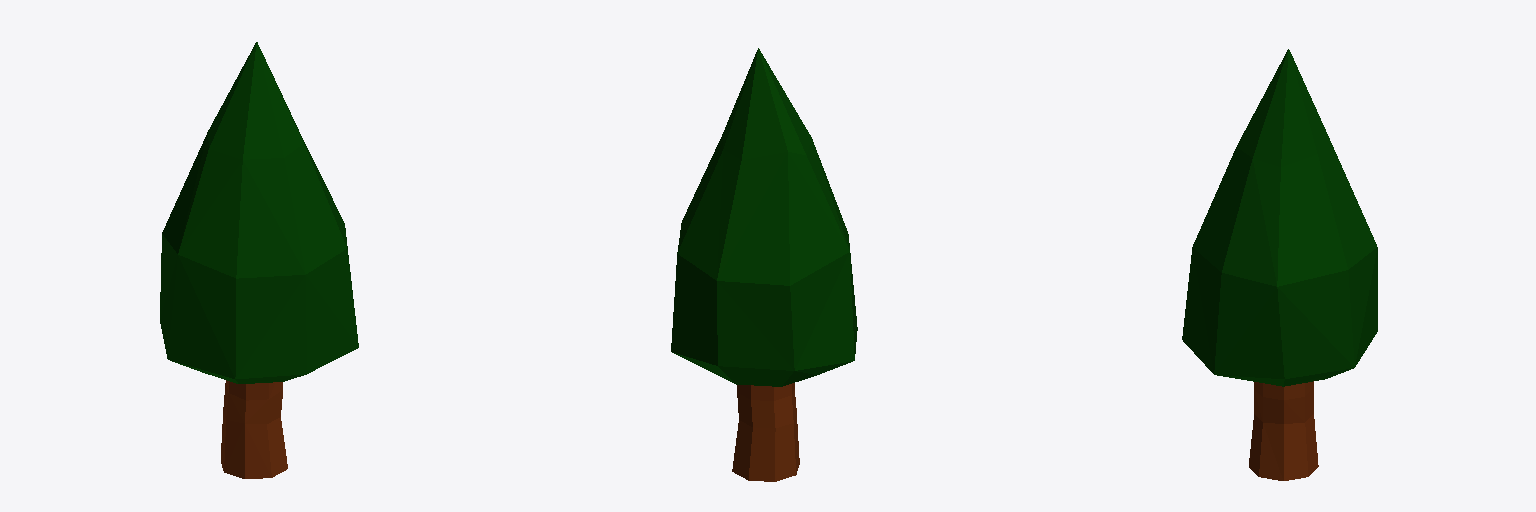
The model's file is pine.obj.
The picture shows the model from 3 angles: view 1: azimuth 30°, elevation 25°; view 2: azimuth 150°, elevation 25°; view 3: azimuth 270°, elevation 25°; orthographic projection.
Parts seen in each view (by area): view 1: cone3, cylinder2; view 2: cone3, cylinder2; view 3: cone3, cylinder2.
Boxes of the visible parts, x1=… form: cone3: x1=160, y1=42, x2=358, y2=383; cylinder2: x1=221, y1=380, x2=287, y2=478; cone3: x1=671, y1=48, x2=857, y2=386; cylinder2: x1=732, y1=383, x2=799, y2=481; cone3: x1=1182, y1=49, x2=1377, y2=386; cylinder2: x1=1249, y1=381, x2=1318, y2=480.
Bounding box in the file's own units: 0.3401 × 0.7808 × 0.3292.